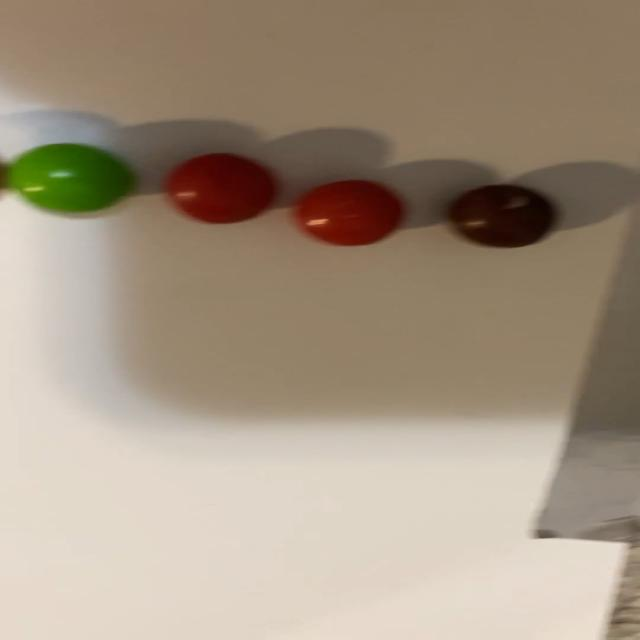smartie: (0, 143, 133, 212), (164, 153, 276, 223), (294, 179, 402, 245), (448, 184, 555, 247)
